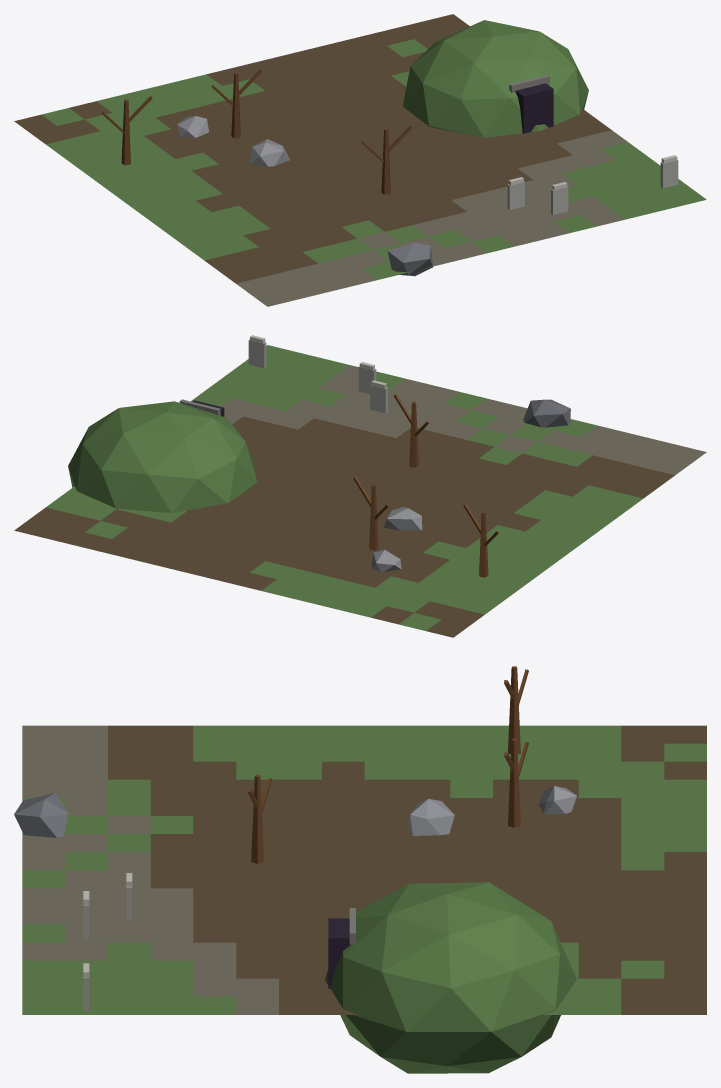
File: chunk_0_21.glb
The picture shows the model from 3 angles, top to bottom: view 1: azimuth 30°, elevation 25°; view 2: azimuth 150°, elevation 25°; view 3: azimuth 270°, elevation 25°; orthographic projection. The views are drawn at different scales.
Visible parts, largest first — view 1: chunk_0_21; view 2: chunk_0_21; view 3: chunk_0_21.
Part boxes in pixels (x1=…): chunk_0_21: x1=14, y1=14, x2=706, y2=306; chunk_0_21: x1=14, y1=335, x2=706, y2=637; chunk_0_21: x1=14, y1=666, x2=706, y2=1073.
Bounding box in the file's own units: 16.94 × 4.45 × 16.19.
